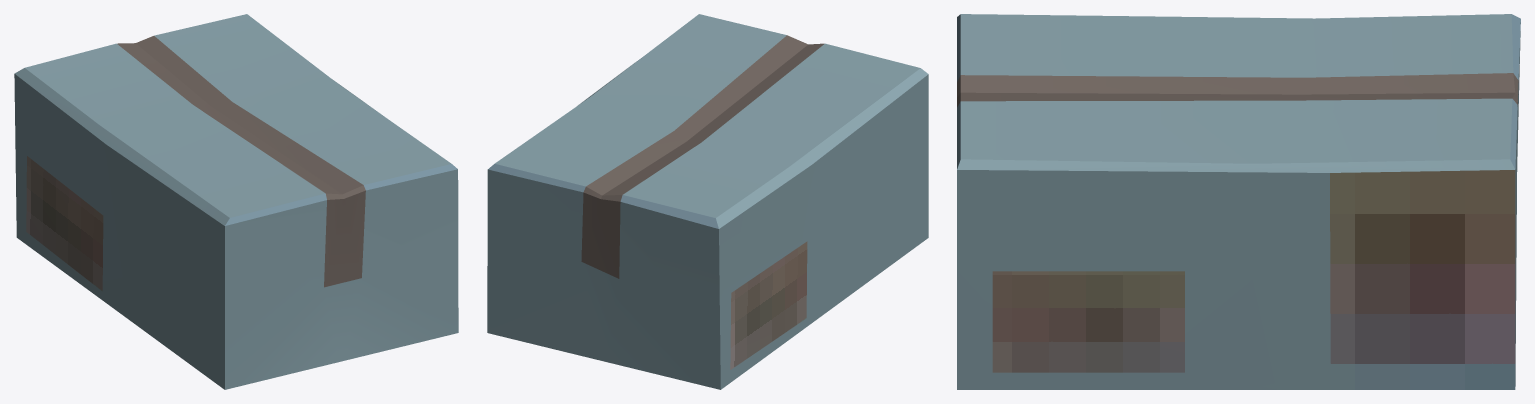
The model's file is entity111754.glb.
3 views of the same model, side by side, from view 1: azimuth 30°, elevation 25°; view 2: azimuth 150°, elevation 25°; view 3: azimuth 270°, elevation 25° (orthographic). The views are drawn at different scales.
Visible parts, largest first — view 1: node_SM_Prop_Cardboard_Box_01; view 2: node_SM_Prop_Cardboard_Box_01; view 3: node_SM_Prop_Cardboard_Box_01.
Boxes of the visible parts, x1=… form: node_SM_Prop_Cardboard_Box_01: x1=14, y1=14, x2=458, y2=389; node_SM_Prop_Cardboard_Box_01: x1=487, y1=14, x2=928, y2=389; node_SM_Prop_Cardboard_Box_01: x1=957, y1=14, x2=1520, y2=389.
Size of the model in its own units: 0.4659 by 0.3236 by 0.723.
1 material, 1 textured.
